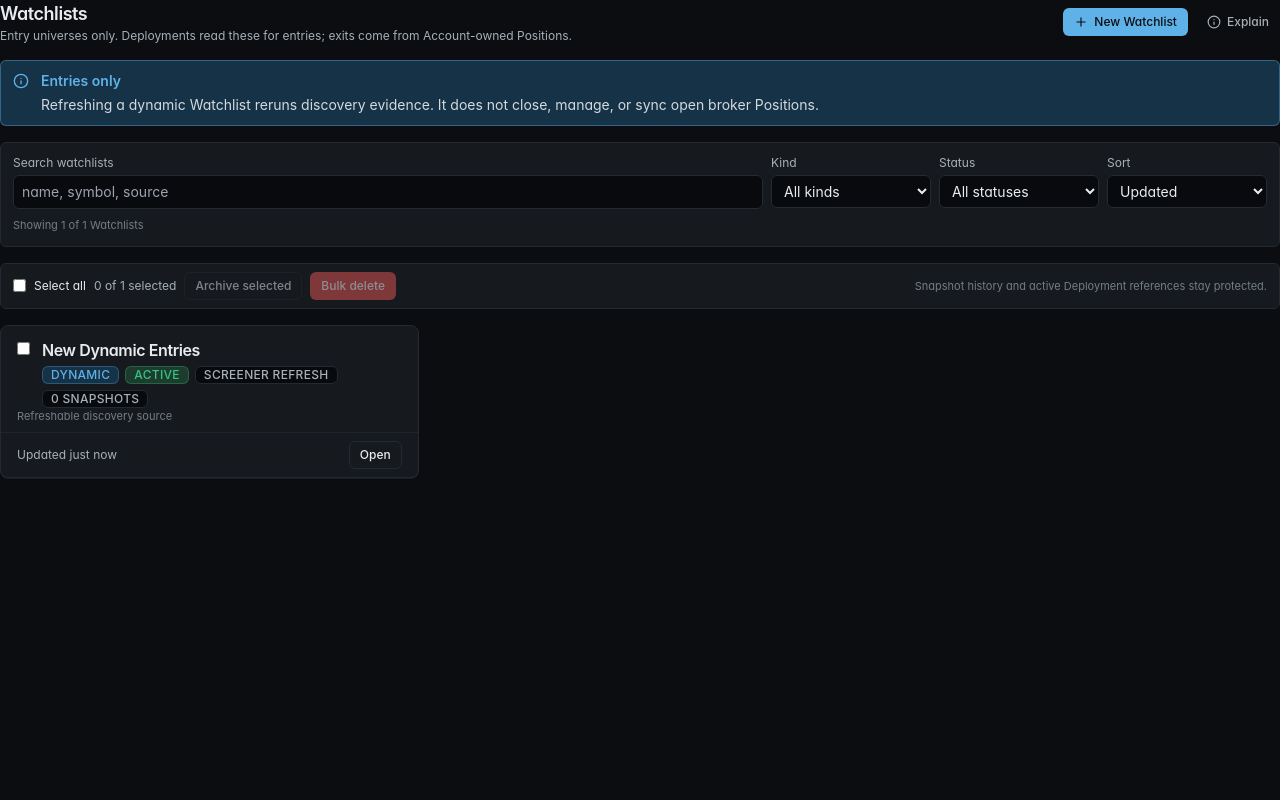
Test: <Watchlists /> › uses refresh-snapshot copy for dynamic Watchlists before the first snapshot
Click the button "Open" at (375, 455), box [349,441,402,469]
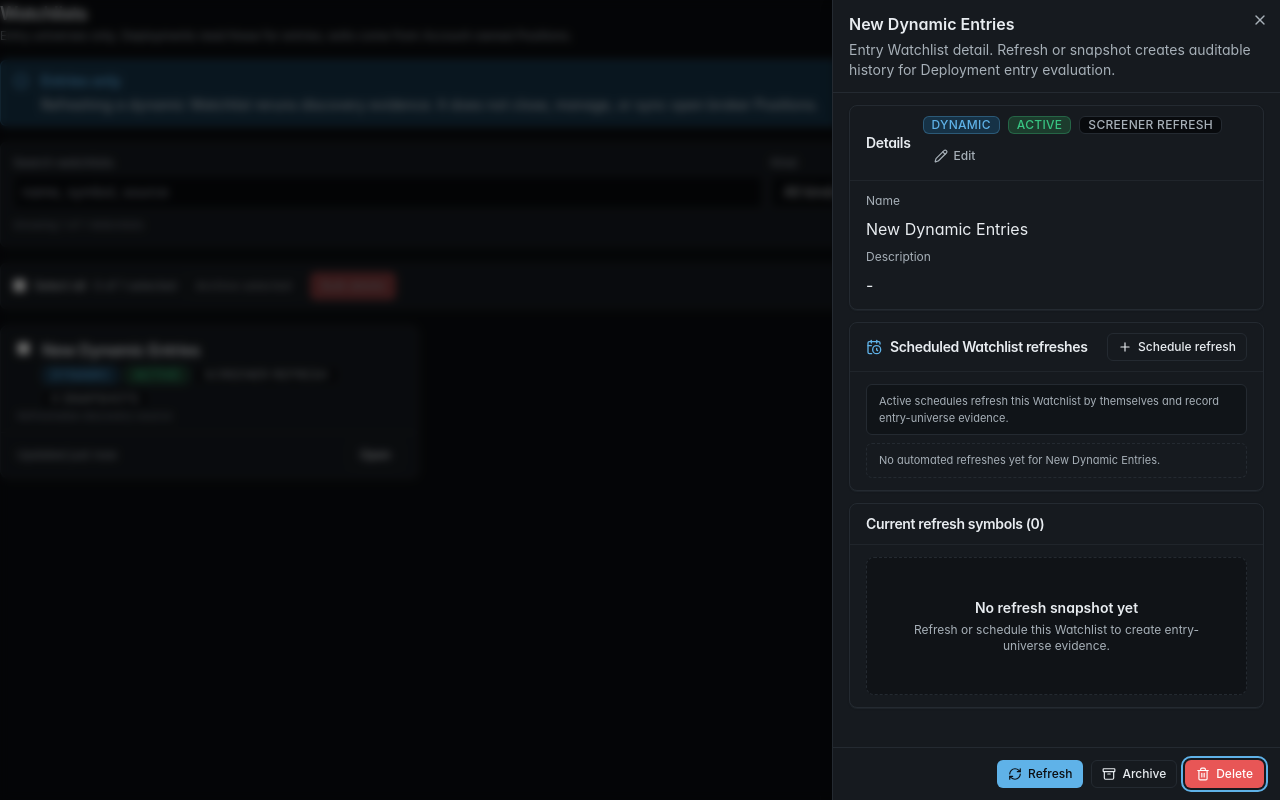
Expected: the text "No refresh snapshot yet" is shown, [975,598,1138,616]
